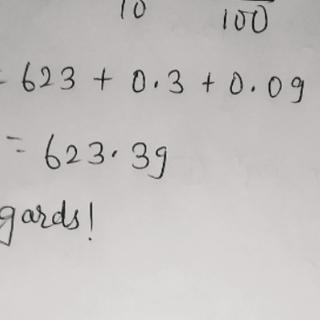.: (248, 82, 263, 96), (106, 148, 121, 160), (83, 232, 98, 244), (151, 81, 163, 89)
0: (251, 5, 271, 35), (132, 68, 148, 96), (266, 76, 282, 99), (230, 69, 243, 94), (233, 9, 245, 33), (132, 4, 145, 19)
1: (221, 8, 228, 37), (116, 1, 126, 17)
2: (35, 62, 53, 87), (66, 144, 82, 166)
3: (84, 140, 108, 168), (166, 69, 189, 94), (130, 144, 150, 170), (58, 65, 75, 90)
6: (45, 129, 60, 171), (21, 61, 37, 91)
9: (153, 144, 172, 181), (287, 71, 305, 106)
